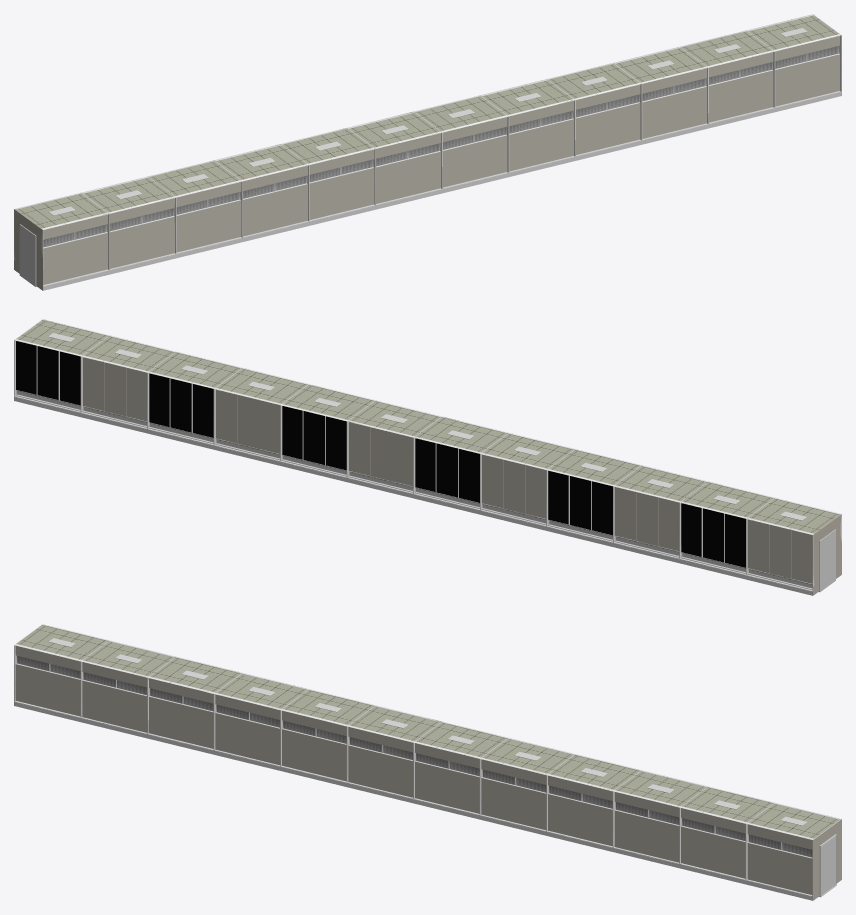
The model's file is pasadizo2.fbx.
3 views of the same model, one above another, from view 1: azimuth 30°, elevation 25°; view 2: azimuth 150°, elevation 25°; view 3: azimuth 330°, elevation 25° (orthographic).
Visible parts, largest first — view 1: Plane, Plane.001, Plane.003, Cube.002; view 2: Plane, Plane.001, Plane.003, Cube.002; view 3: Plane.001, Plane, Plane.004, Cube.003.
Boxes of the visible parts, box(x1,y1,x2,y2) form: Plane: box(14, 30, 775, 290); Plane.001: box(81, 14, 841, 274); Plane.003: box(14, 209, 43, 290); Cube.002: box(19, 224, 36, 286); Plane: box(80, 335, 841, 595); Plane.001: box(14, 319, 774, 579); Plane.003: box(812, 514, 841, 595); Cube.002: box(819, 529, 835, 592); Plane.001: box(80, 640, 841, 900); Plane: box(14, 624, 774, 884); Plane.004: box(812, 819, 841, 900); Cube.003: box(819, 834, 836, 897).
Size of the model in its own units: 4803 by 356 by 302.
